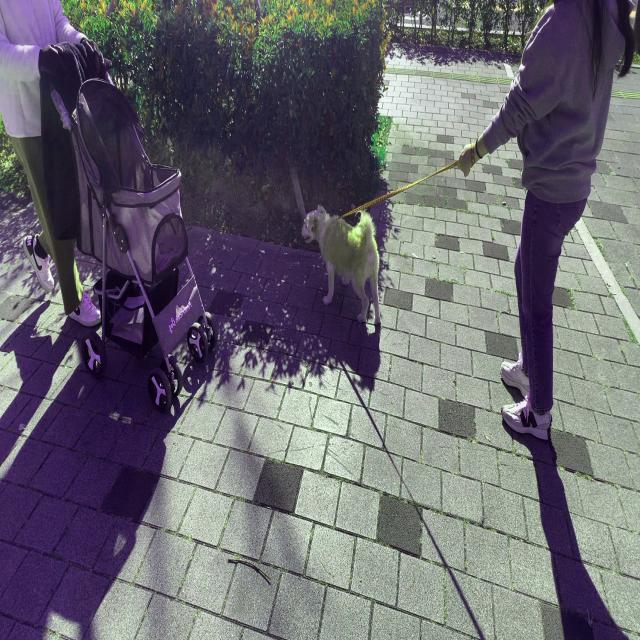Leashed_Dog: (300, 97, 561, 327)
